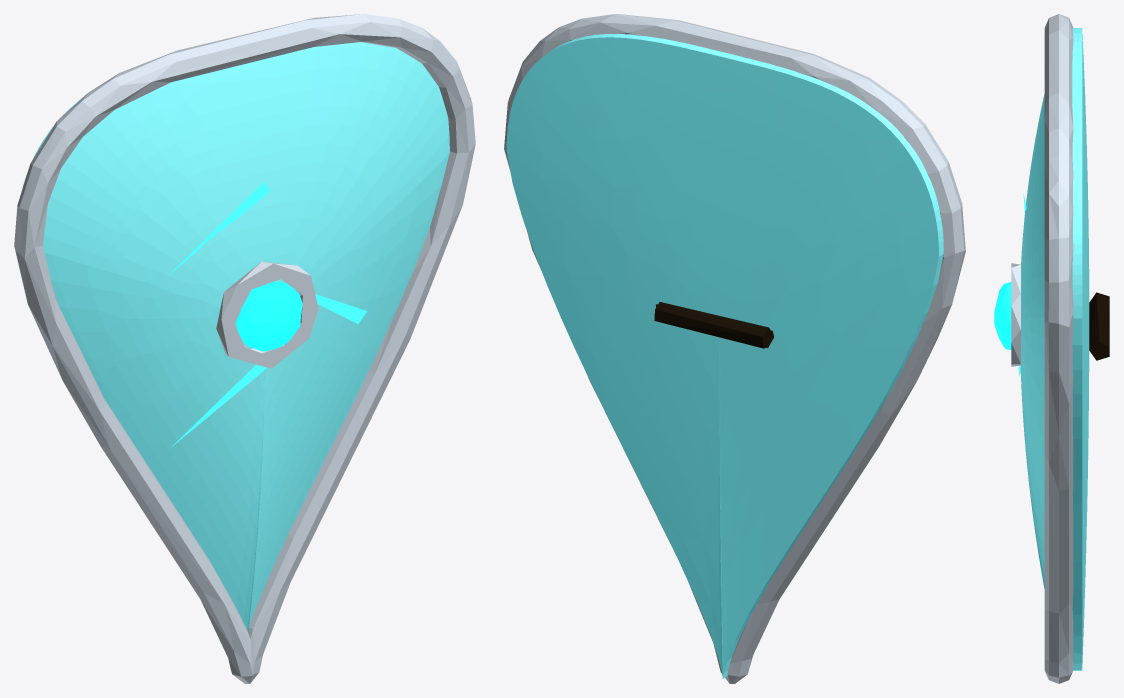
File: shield_2.glb
The picture shows the model from 3 angles, left to right: view 1: azimuth 30°, elevation 25°; view 2: azimuth 150°, elevation 25°; view 3: azimuth 270°, elevation 25°; orthographic projection. The views are drawn at different scales.
Visible parts, largest first — view 1: part_01, part_02, part_10, part_09, part_03; view 2: part_01, part_02, part_11; view 3: part_02, part_01, part_11, part_10, part_09.
Boxes of the visible parts, x1=… form: part_01: x1=22, y1=42, x2=449, y2=631; part_02: x1=14, y1=14, x2=475, y2=683; part_10: x1=216, y1=261, x2=318, y2=368; part_09: x1=236, y1=281, x2=302, y2=351; part_03: x1=167, y1=182, x2=269, y2=276; part_01: x1=506, y1=34, x2=943, y2=678; part_02: x1=504, y1=14, x2=965, y2=683; part_11: x1=654, y1=302, x2=772, y2=348; part_02: x1=1044, y1=14, x2=1073, y2=683; part_01: x1=1020, y1=28, x2=1089, y2=670; part_11: x1=1089, y1=292, x2=1109, y2=360; part_10: x1=1011, y1=263, x2=1020, y2=366; part_09: x1=994, y1=282, x2=1011, y2=349.
Bounding box in the file's own units: 0.8487 × 1.15 × 0.1933.
